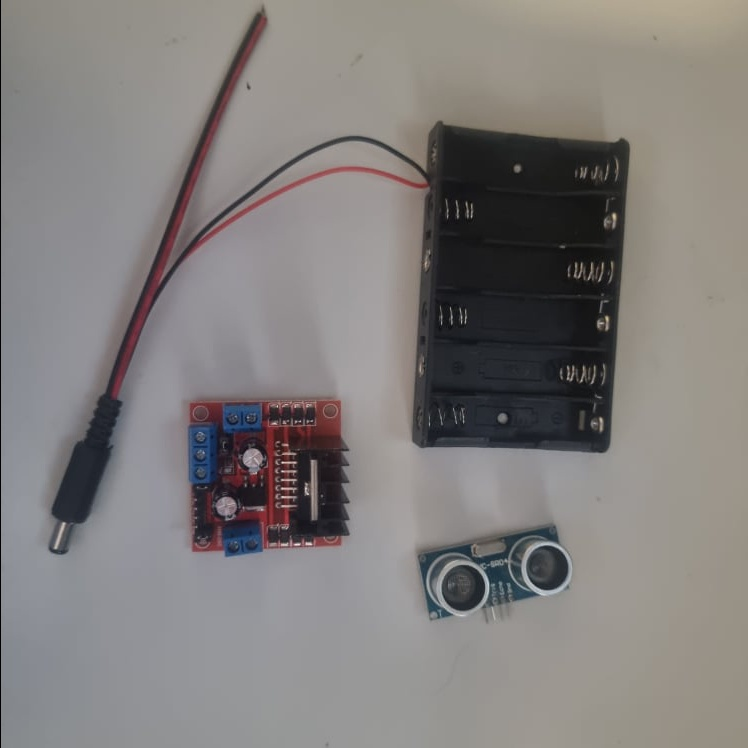BATTERY BOX: (411, 119, 629, 454)
MOTOR: (186, 398, 347, 559)
SENSOR: (413, 521, 572, 631)
